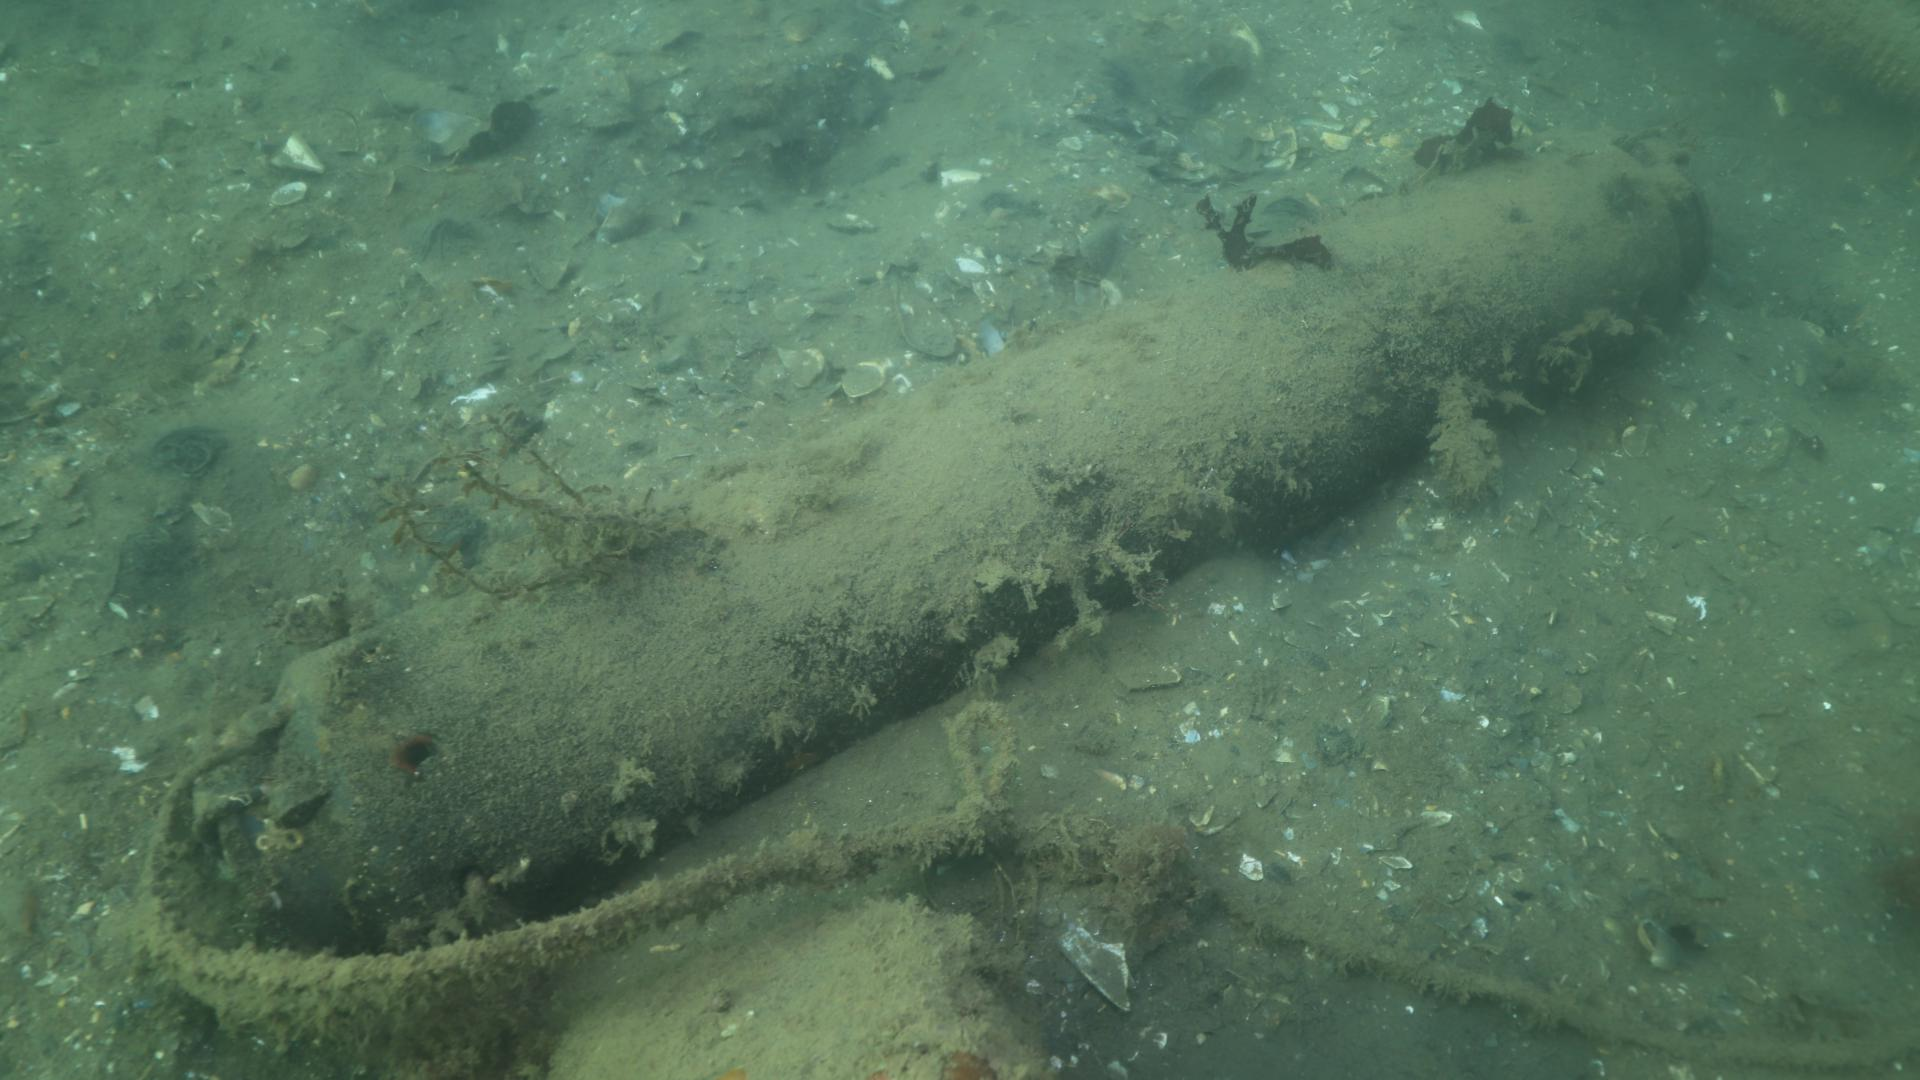eel fish trap: (237, 152, 1706, 944)
rope: (132, 740, 1920, 1069)
